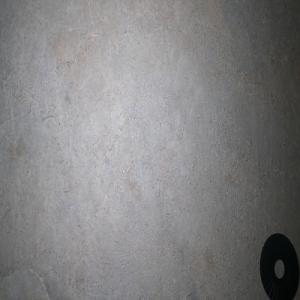Washer: (259, 233, 299, 300)
